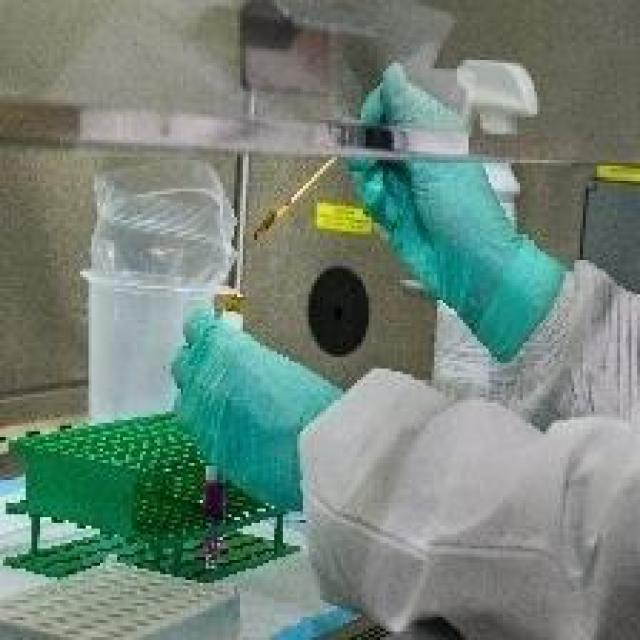syringe: (260, 128, 344, 272)
